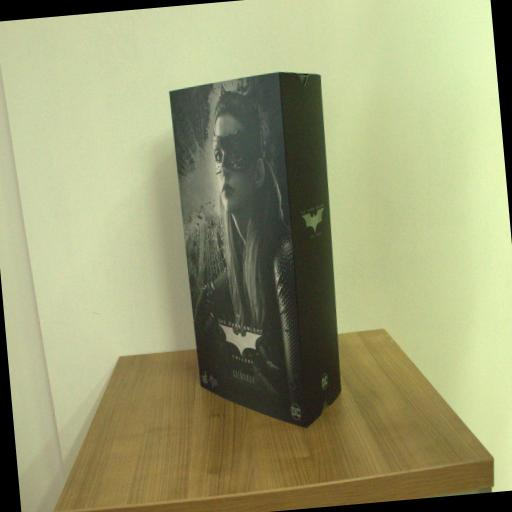catwoman: (168, 68, 352, 436)
